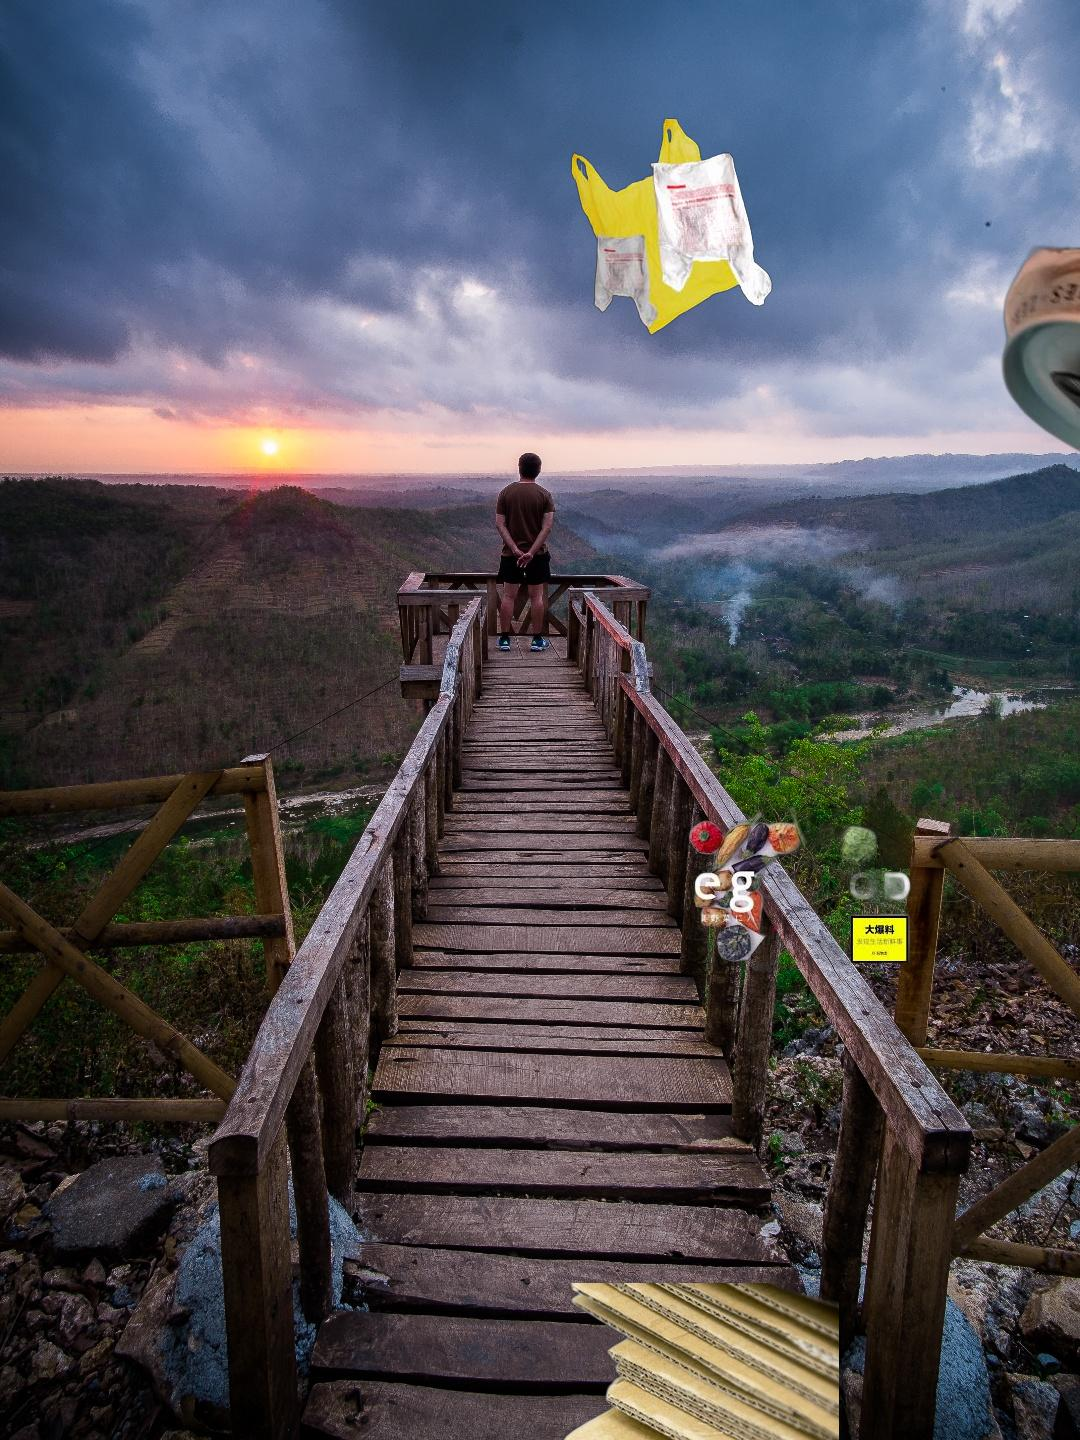biological: (657, 798, 926, 979)
metal-cans: (998, 225, 1080, 498)
plastic-bag: (569, 116, 775, 338)
trashbox-cardboard: (530, 1284, 839, 1440)
